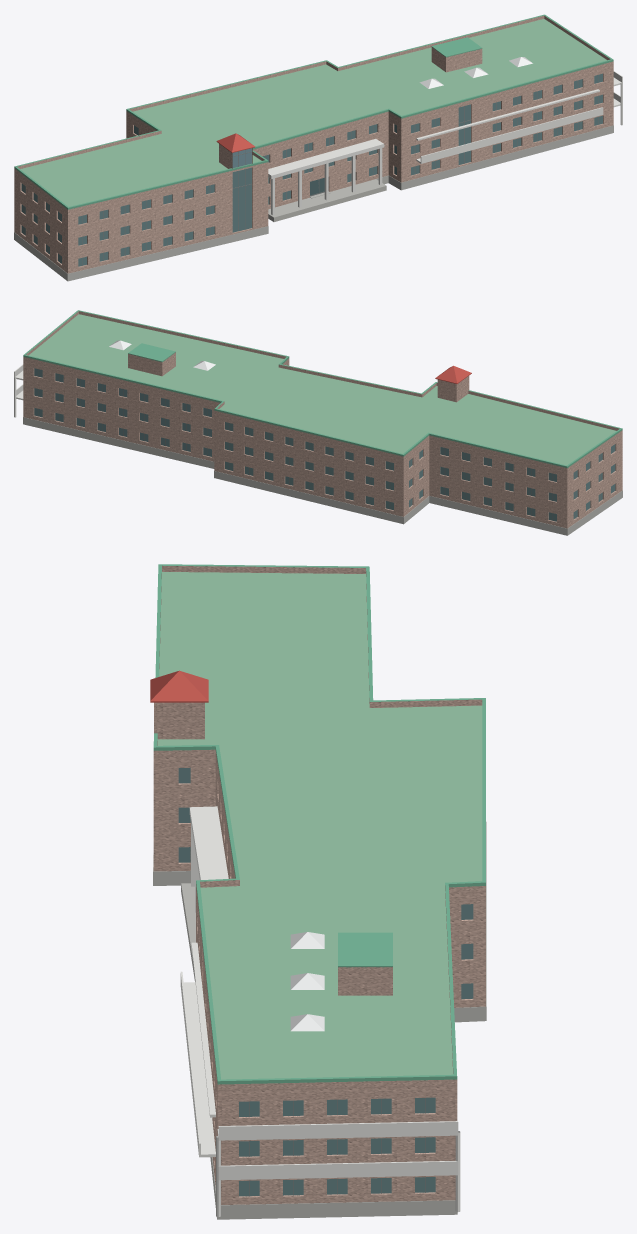
3 views of the same model, one above another, from view 1: azimuth 30°, elevation 25°; view 2: azimuth 150°, elevation 25°; view 3: azimuth 270°, elevation 25° (orthographic). The views are drawn at different scales.
Parts seen in each view (by area): view 1: C10 pink tan brick, C10 green flat roof, C10 dark green grey glass, C10 granite base, C10 green roof edge, C10 white balcony slabs, C10 white portico columns pole, C10 dark window frames, C10 white skylight, C10 red stair tower roof; view 2: C10 pink tan brick, C10 green flat roof, C10 dark green grey glass, C10 granite base, C10 green roof edge, C10 dark window frames, C10 red stair tower roof; view 3: C10 green flat roof, C10 pink tan brick, C10 white balcony slabs, C10 green roof edge, C10 dark green grey glass, C10 granite base, C10 white skylight, C10 red stair tower roof, C10 white portico columns pole.
Part boxes in pixels (left/top/right/bottom): C10 pink tan brick: left=14, top=15, right=613, bottom=273; C10 green flat roof: left=20, top=19, right=606, bottom=206; C10 dark green grey glass: left=21, top=73, right=602, bottom=266; C10 granite base: left=14, top=125, right=613, bottom=281; C10 green roof edge: left=14, top=14, right=613, bottom=209; C10 white balcony slabs: left=268, top=71, right=622, bottom=178; C10 white portico columns pole: left=271, top=83, right=622, bottom=215; C10 dark window frames: left=23, top=75, right=598, bottom=265; C10 white skylight: left=419, top=57, right=532, bottom=88; C10 red stair tower roof: left=216, top=133, right=255, bottom=152; C10 pink tan brick: left=23, top=311, right=622, bottom=528; C10 green flat roof: left=29, top=314, right=616, bottom=465; C10 dark green grey glass: left=34, top=368, right=615, bottom=521; C10 granite base: left=23, top=417, right=622, bottom=535; C10 green roof edge: left=23, top=310, right=622, bottom=468; C10 dark window frames: left=38, top=369, right=600, bottom=520; C10 red stair tower roof: left=435, top=365, right=471, bottom=383; C10 green flat roof: left=157, top=572, right=482, bottom=1079; C10 pink tan brick: left=153, top=565, right=485, bottom=1204; C10 white balcony slabs: left=180, top=806, right=458, bottom=1180; C10 green roof edge: left=153, top=564, right=485, bottom=1084; C10 dark green grey glass: left=178, top=767, right=473, bottom=1196; C10 granite base: left=153, top=821, right=486, bottom=1219; C10 white skylight: left=290, top=932, right=324, bottom=1031; C10 red stair tower roof: left=150, top=670, right=208, bottom=702; C10 white portico columns pole: left=191, top=824, right=460, bottom=1216.
Size of the model in its own units: 102 by 17.4 by 27.68.
12 materials, 1 textured.
